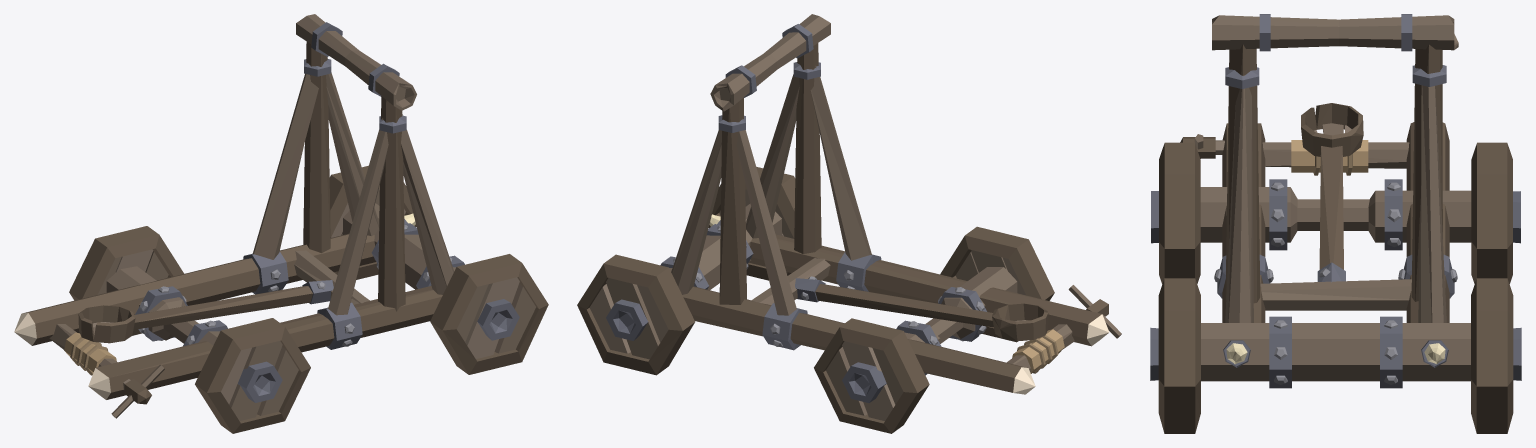
The model's file is _CATAPULT.fbx.
3 renders of one model, left to right at view 1: azimuth 30°, elevation 25°; view 2: azimuth 150°, elevation 25°; view 3: azimuth 270°, elevation 25°, orthographic. The views are drawn at different scales.
Parts seen in each view (by area): view 1: CATAPULT_MAIN; view 2: CATAPULT_MAIN; view 3: CATAPULT_MAIN.
Boxes of the visible parts, x1=… form: CATAPULT_MAIN: x1=14, y1=14, x2=548, y2=433; CATAPULT_MAIN: x1=577, y1=14, x2=1121, y2=433; CATAPULT_MAIN: x1=1150, y1=14, x2=1521, y2=433.
Size of the model in its own units: 507 by 330 by 306.
